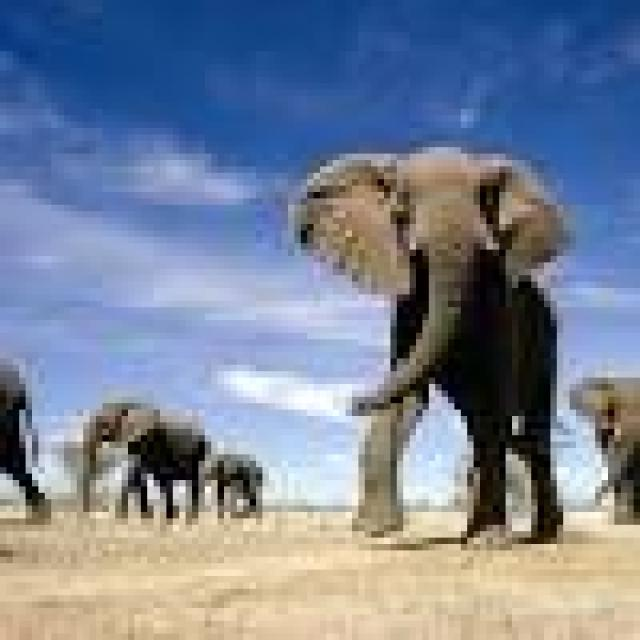Elephant: (282, 141, 570, 544), (77, 397, 211, 518), (563, 372, 634, 518), (0, 346, 51, 518), (198, 448, 262, 518)
